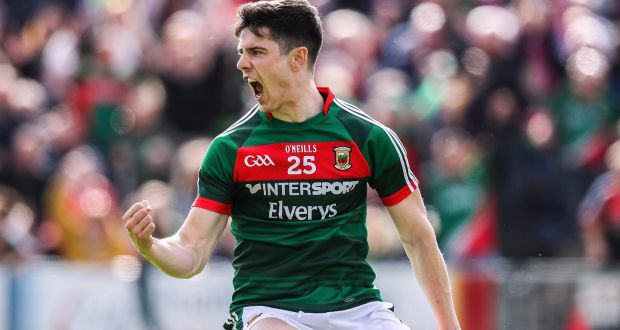player: (204, 9, 410, 306)
